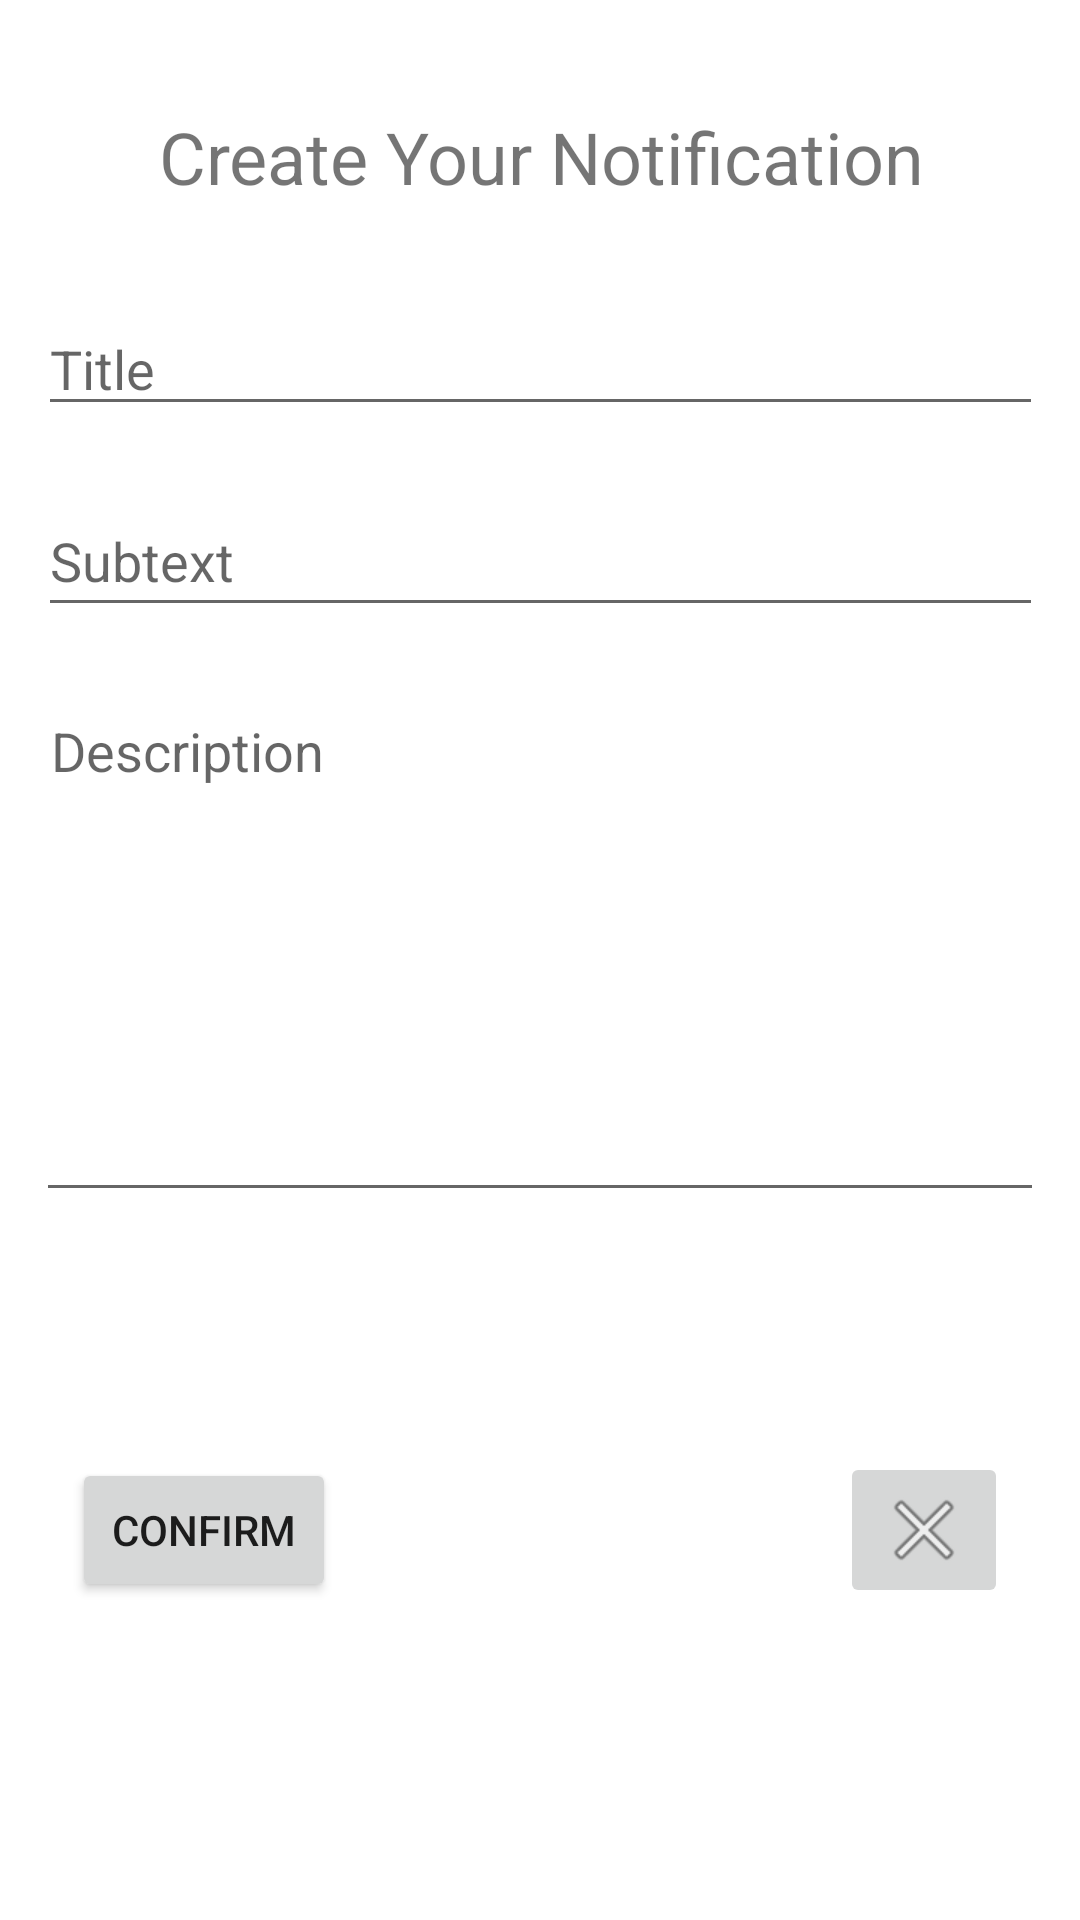

Where to tap for icons on this 1080w x 1920h app screen, as (x=x, y=y):
close clear cancel: (x=924, y=1530)
